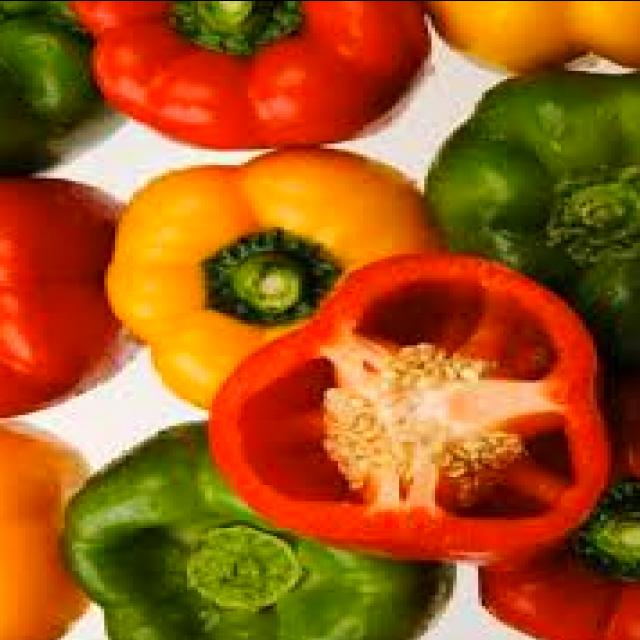Bell pepper: (202, 250, 610, 578), (99, 134, 444, 412), (58, 425, 460, 640), (395, 62, 640, 350), (69, 0, 452, 158), (453, 360, 640, 640), (0, 167, 133, 430), (0, 406, 115, 640), (0, 0, 93, 199), (392, 0, 640, 70)
